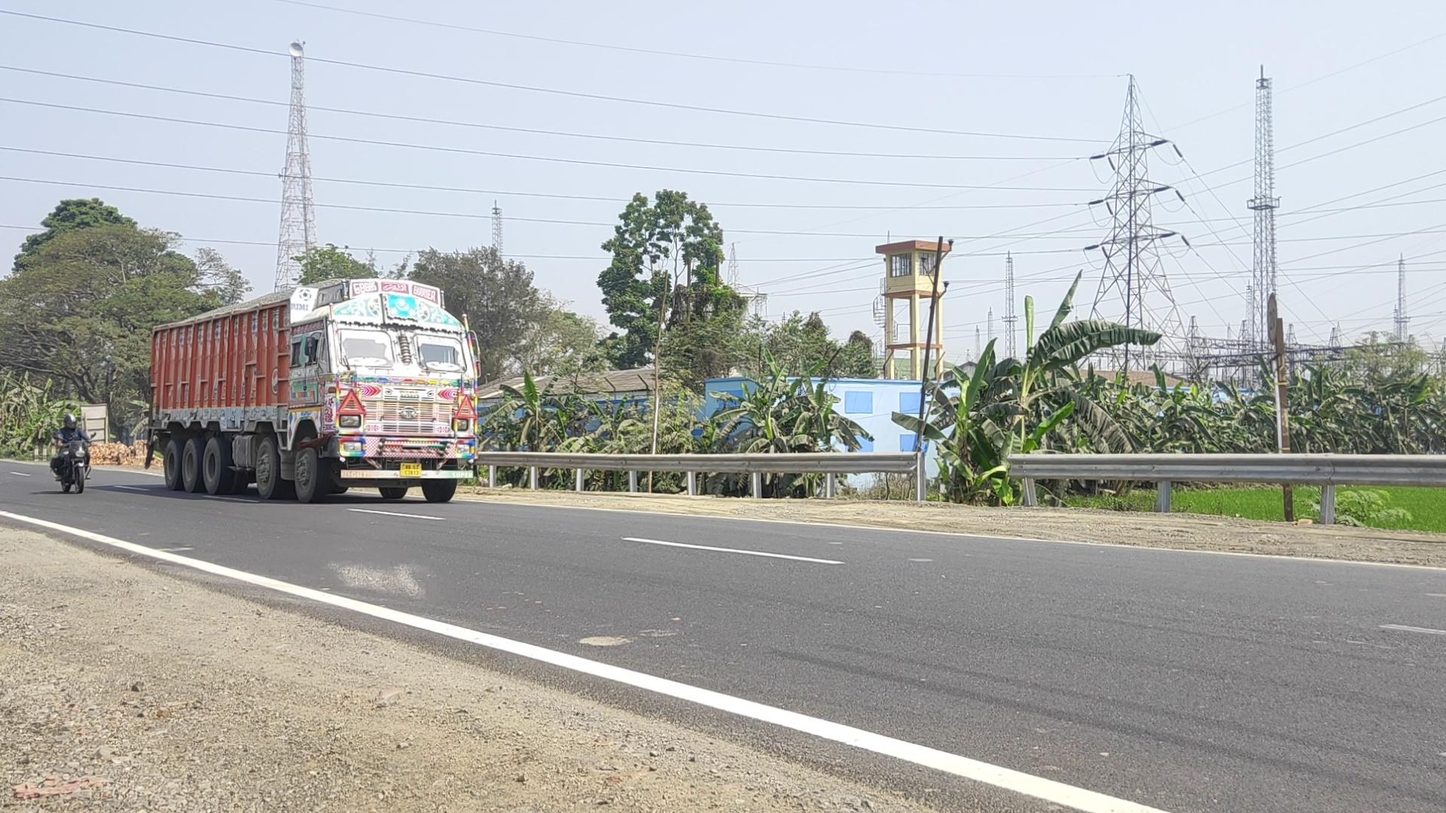bike: (50, 414, 96, 492)
truck: (146, 277, 481, 504)
